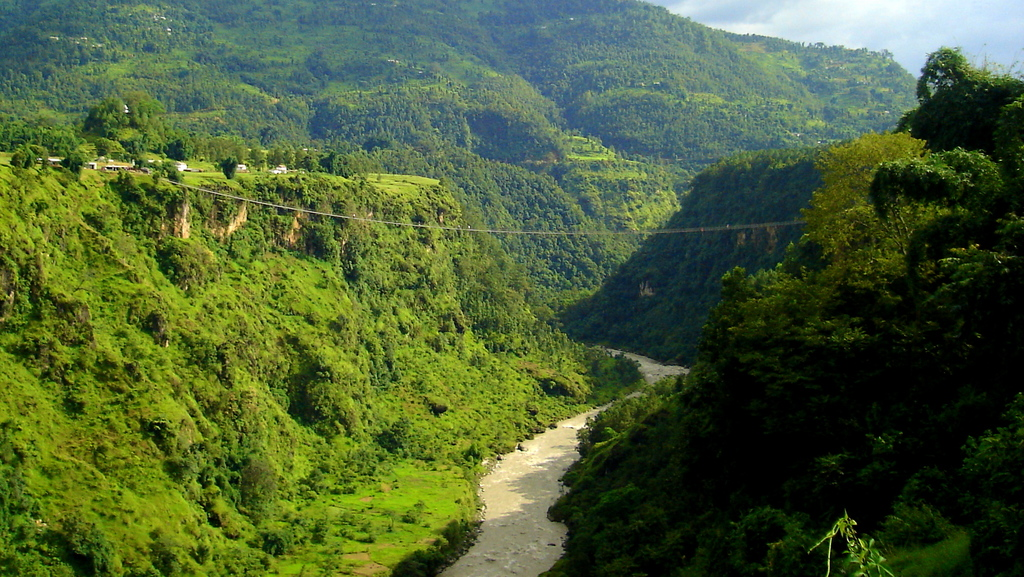Tree: (561, 54, 1023, 553)
